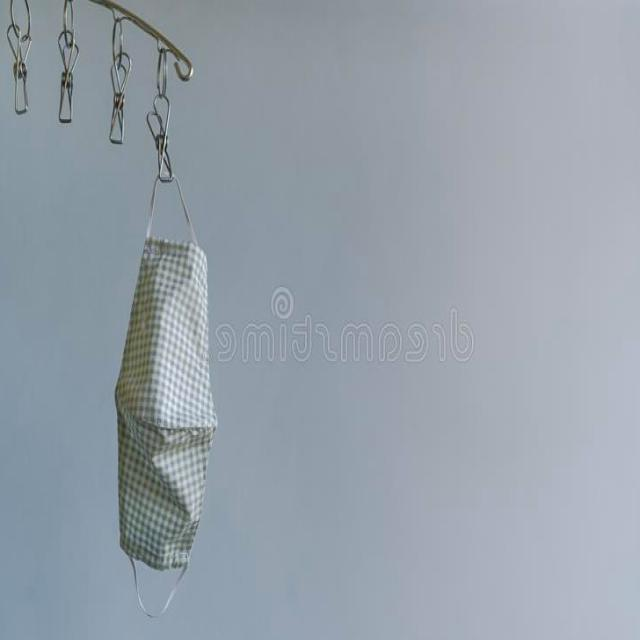clothes: (105, 212, 224, 624)
